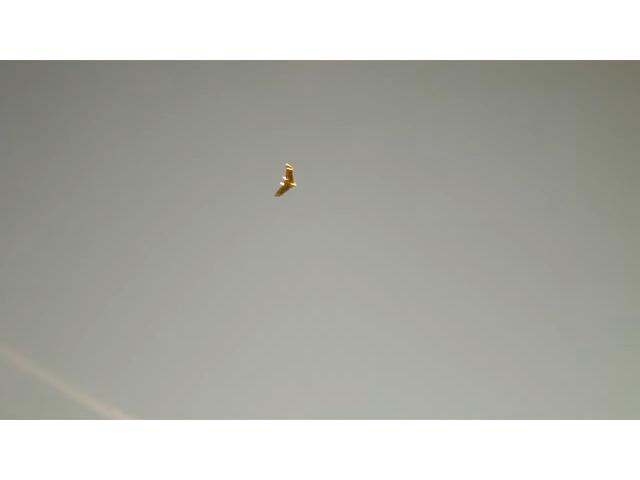Anti-Drone: (274, 164, 298, 196)
